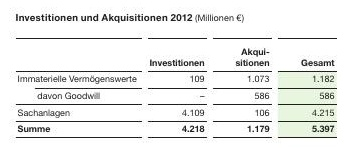table: (0, 0, 348, 148)
